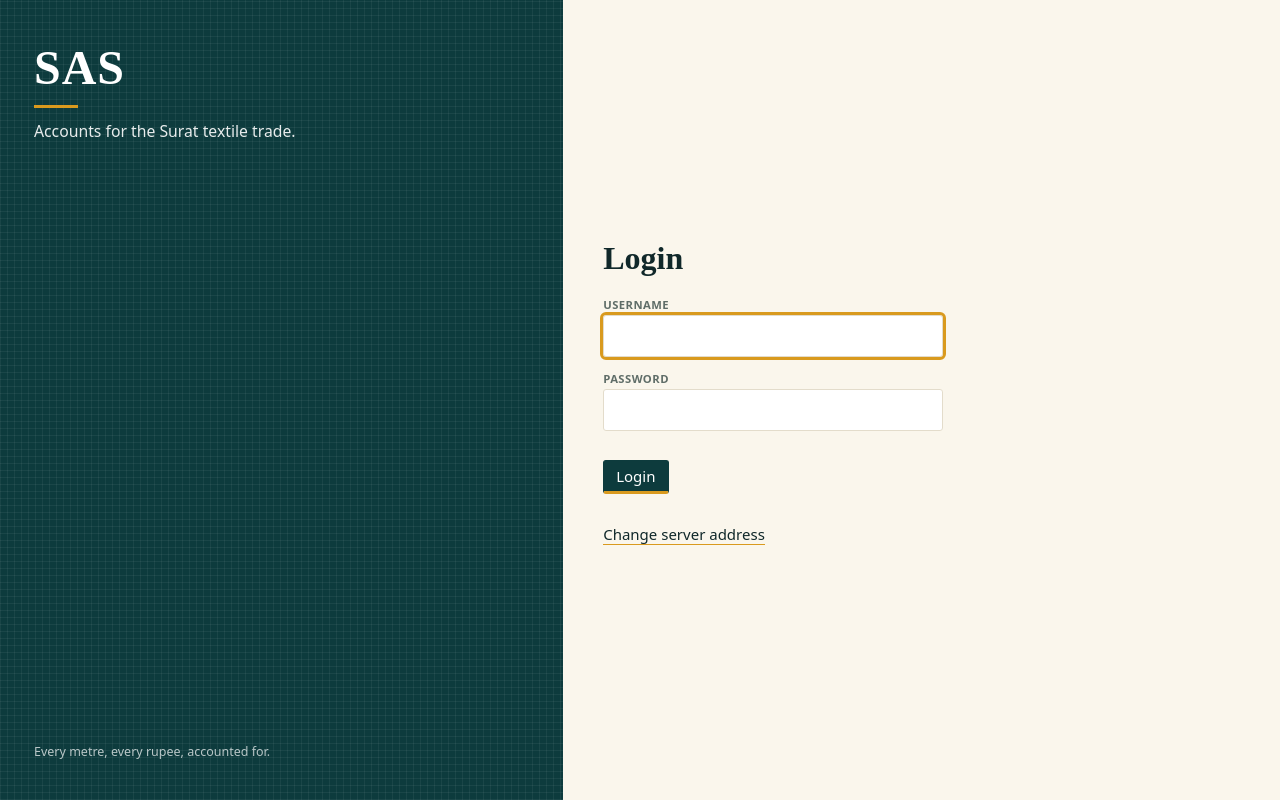
Test case: App start-up and login › opens the year it remembered, once chosen
Type "boss" into the field labelled "Username" at x=773, y=336, box 603,315 -> 943,357
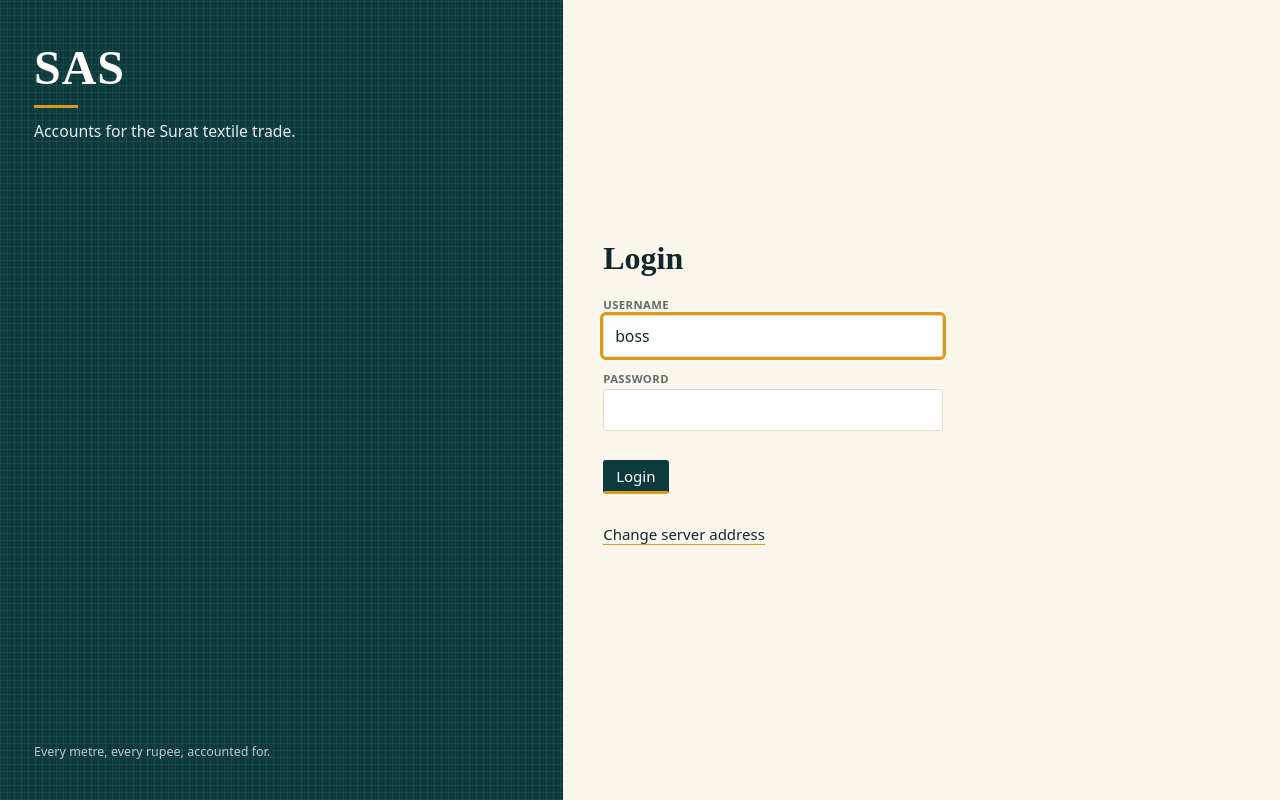
Type "secret" into the password field labelled "Password" at x=773, y=410, box 603,389 -> 943,431
Then press Enter
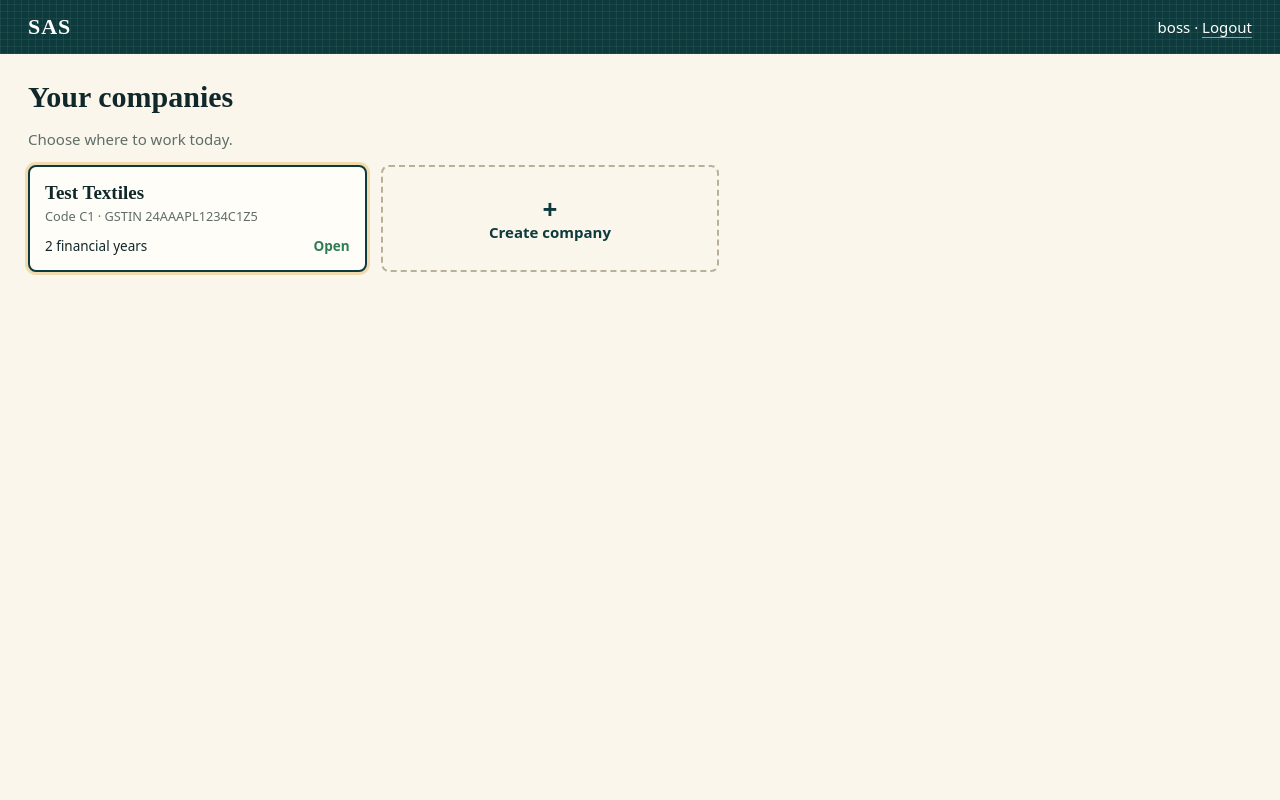
Result: the heading "Your companies" is shown at 28,80 -> 233,113
Press Enter
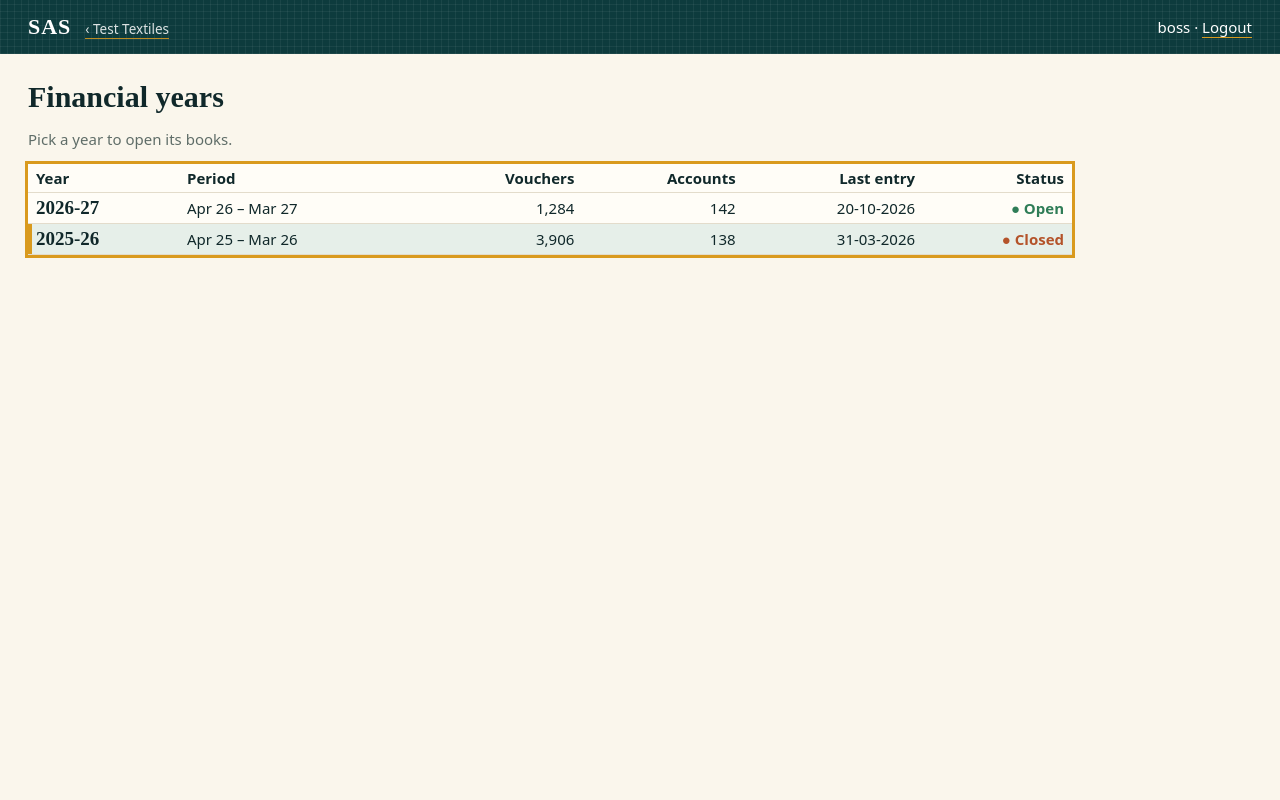
Result: the heading "Financial years" is shown at 28,80 -> 224,113
Press Enter
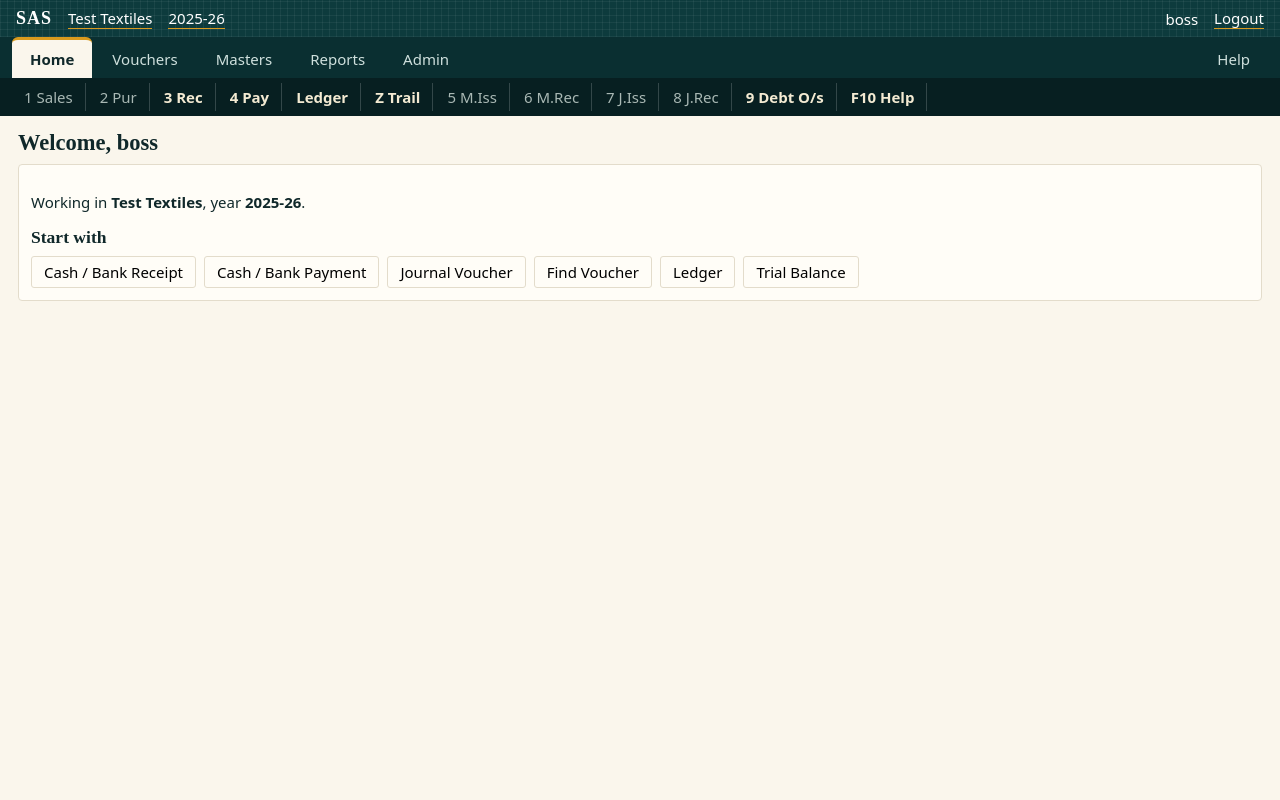
Result: the heading "Welcome, boss" is shown at 18,130 -> 158,155
Result: the button "2025-26" is shown at 168,8 -> 225,29
